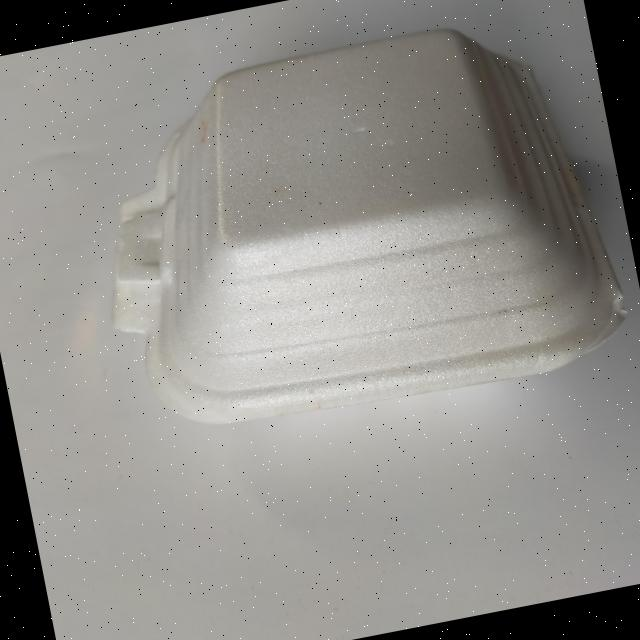styrofoam: (67, 0, 637, 453)
